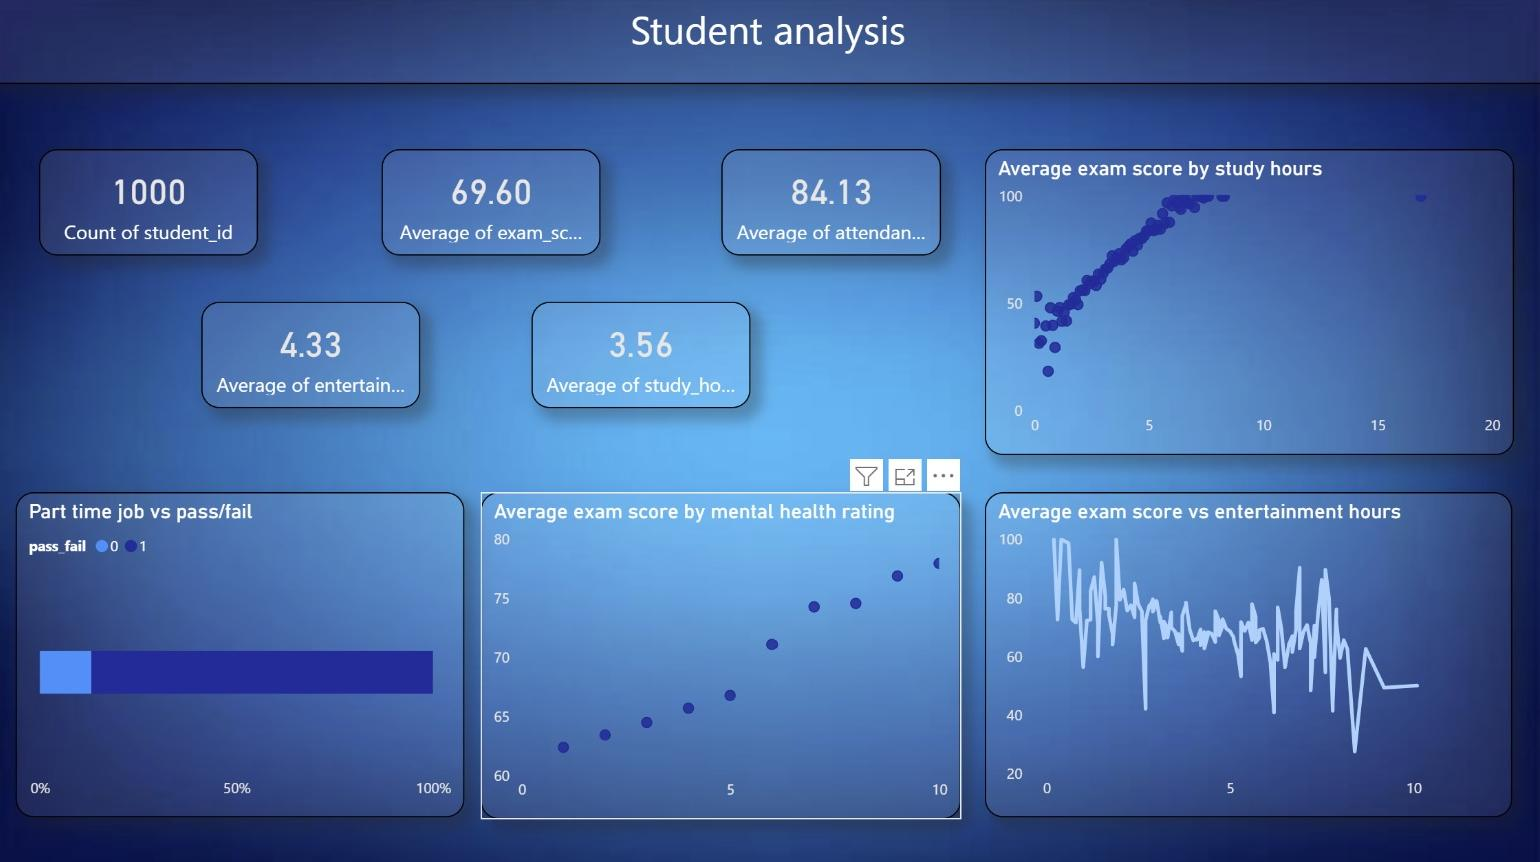

This screenshot's page, from the dashboard's own definition file:
{"tool":"powerbi","page":{"name":"Page 1","canvas":[1280,720],"ordinal":0},"visuals":[{"type":"textbox","box":[0,0,1280,73.5],"z":0},{"type":"lineChart","title":"Average exam score vs entertainment hours","fields":{"Category":["final_dataset.entertainment_time"],"Y":["Avg(final_dataset.exam_score)"]},"box":[818.5,410.5,436,269],"z":1000},{"type":"scatterChart","title":"Average exam score by study hours","fields":{"X":["final_dataset.study_hours_per_day"],"Y":["Avg(final_dataset.exam_score)"]},"box":[818.5,127.5,437.3,252.4],"z":2000},{"type":"scatterChart","title":"Average exam score by mental health rating","fields":{"X":["final_dataset.mental_health_rating"],"Y":["Avg(final_dataset.exam_score)"]},"box":[402.9,410.5,396.5,270.3],"z":3000},{"type":"hundredPercentStackedBarChart","title":"Part time job vs pass/fail","fields":{"Y":["CountNonNull(final_dataset.part_time_job)"],"Series":["final_dataset.pass_fail"]},"box":[17.8,410.5,371,269],"z":4000},{"type":"card","fields":{"Values":["Avg(final_dataset.exam_score)"]},"box":[321.3,127.5,181,88],"z":5000},{"type":"card","fields":{"Values":["Count(final_dataset.student_id)"]},"box":[37,127.5,181,88],"z":6000},{"type":"card","fields":{"Values":["Avg(final_dataset.entertainment_time)"]},"box":[172.1,253.7,181,88],"z":7000},{"type":"card","fields":{"Values":["Avg(final_dataset.attendance_percentage)"]},"box":[601.8,127.5,181,88],"z":8000},{"type":"card","fields":{"Values":["Avg(final_dataset.study_hours_per_day)"]},"box":[444.9,253.7,181,88],"z":9000}]}

Visuals, with their boxes in screenshot pixels (x1, y1, x2, y2), scaled from the page's 1280x720 canvas onto the 1540x862 screenshot:
textbox: <bbox>0, 0, 1539, 88</bbox>
"Average exam score vs entertainment hours" lineChart: <bbox>985, 491, 1509, 814</bbox>
"Average exam score by study hours" scatterChart: <bbox>985, 153, 1511, 455</bbox>
"Average exam score by mental health rating" scatterChart: <bbox>485, 491, 962, 815</bbox>
"Part time job vs pass/fail" hundredPercentStackedBarChart: <bbox>21, 491, 468, 814</bbox>
card - Avg(final_dataset.exam_score): <bbox>387, 153, 604, 258</bbox>
card - Count(final_dataset.student_id): <bbox>45, 153, 262, 258</bbox>
card - Avg(final_dataset.entertainment_time): <bbox>207, 304, 425, 409</bbox>
card - Avg(final_dataset.attendance_percentage): <bbox>724, 153, 942, 258</bbox>
card - Avg(final_dataset.study_hours_per_day): <bbox>535, 304, 753, 409</bbox>
